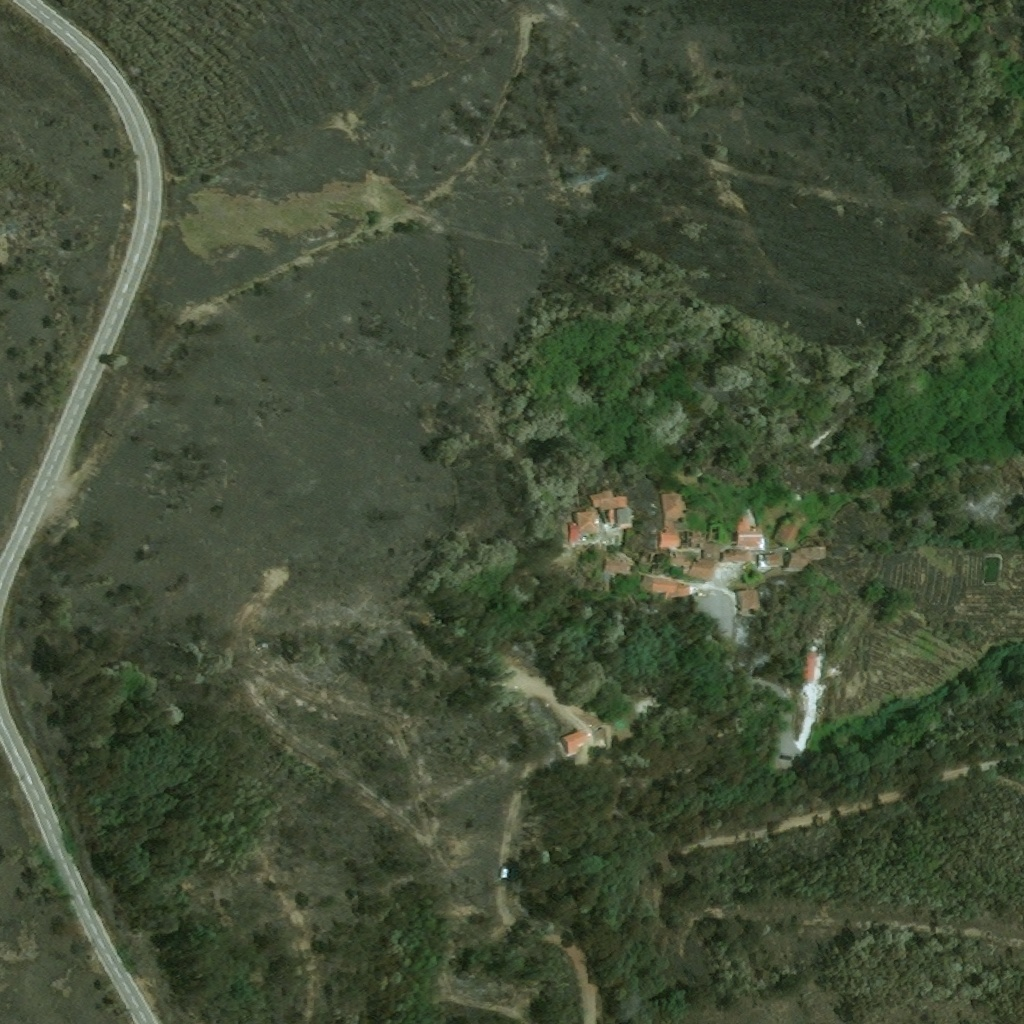0 no-damage: (588, 488, 629, 526), (768, 516, 802, 550), (645, 577, 684, 603), (570, 721, 602, 751), (788, 548, 826, 570), (796, 649, 816, 683), (572, 509, 599, 532), (735, 590, 760, 614), (601, 557, 631, 576), (736, 532, 764, 549), (757, 553, 783, 570), (736, 509, 754, 533), (688, 560, 710, 579), (719, 550, 750, 563), (614, 509, 631, 530), (700, 542, 713, 559), (669, 555, 685, 568)
1 minor-damage: (659, 491, 686, 521), (662, 521, 676, 537)
3 destroyed: (637, 554, 658, 571)
4 un-classified: (575, 530, 621, 555), (630, 694, 657, 718), (684, 467, 699, 481)
